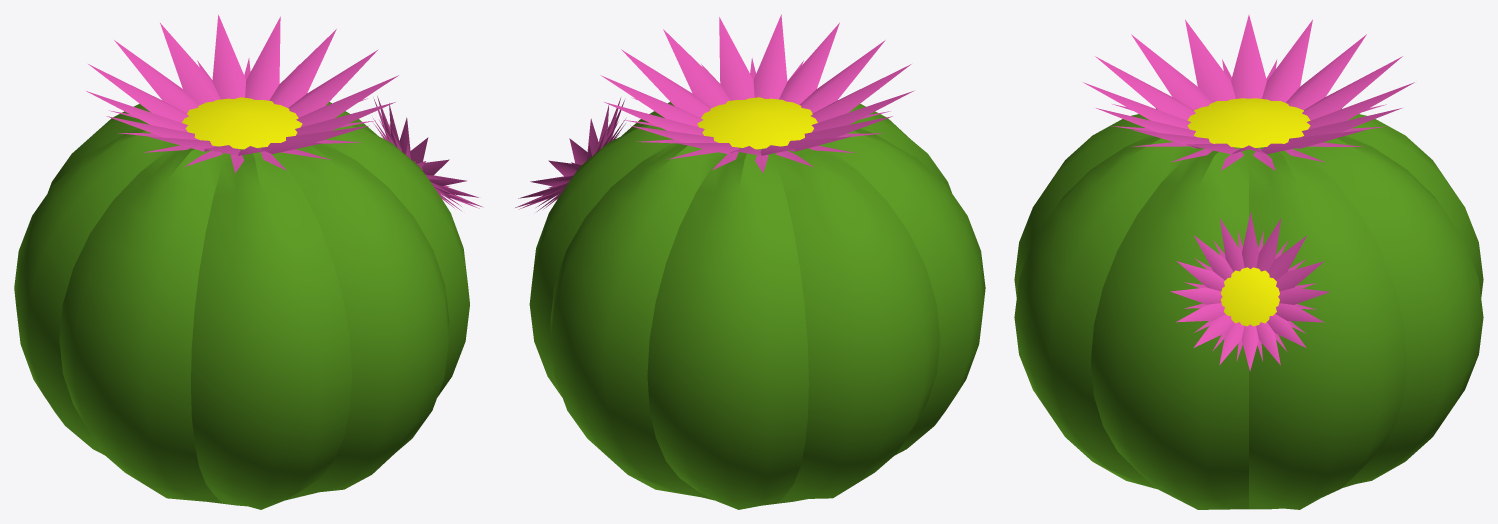
The model's file is plant4.glb.
3 views of the same model, side by side, from view 1: azimuth 30°, elevation 25°; view 2: azimuth 150°, elevation 25°; view 3: azimuth 270°, elevation 25° (orthographic).
Parts seen in each view (by area): view 1: Cactus_03, Cactus_03_flowers; view 2: Cactus_03, Cactus_03_flowers; view 3: Cactus_03, Cactus_03_flowers.
Part boxes in pixels (left/top/right/bottom): Cactus_03: left=14, top=102, right=469, bottom=509; Cactus_03_flowers: left=86, top=14, right=483, bottom=210; Cactus_03: left=529, top=102, right=985, bottom=509; Cactus_03_flowers: left=515, top=14, right=914, bottom=211; Cactus_03: left=1014, top=108, right=1483, bottom=509; Cactus_03_flowers: left=1083, top=15, right=1414, bottom=371.
Bounding box in the file's own units: 5.75 × 5.08 × 5.49.
Materials: 1 (1 with a texture image).
